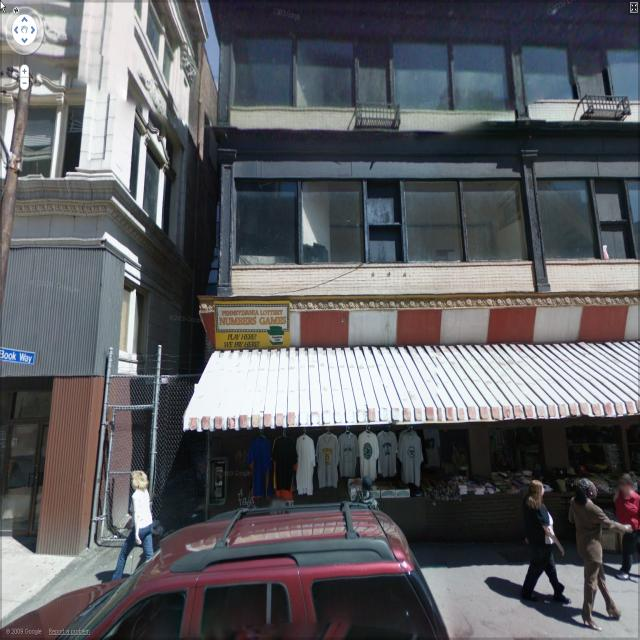b_1: (219, 5, 640, 531), (4, 1, 194, 500)
